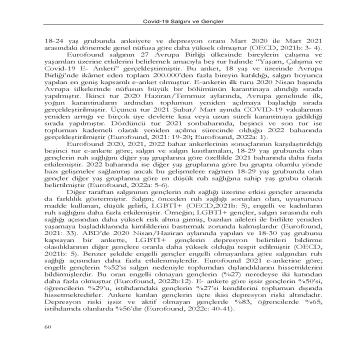header: (140, 16, 224, 24)
